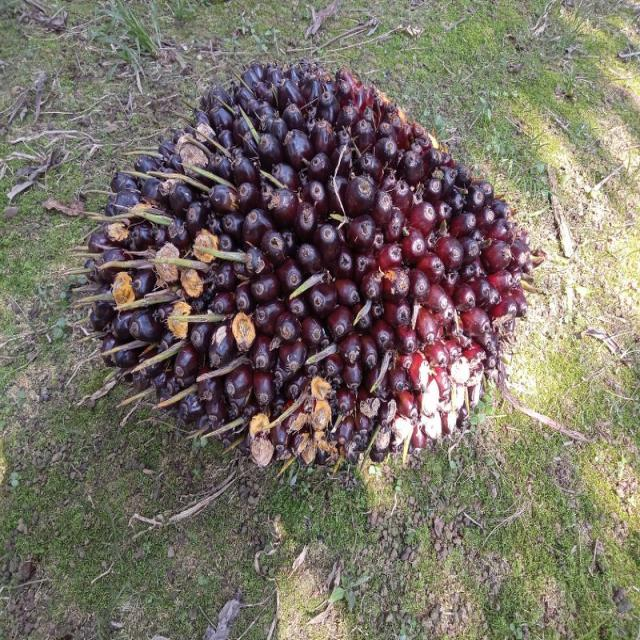fraksi 1: (83, 61, 534, 463)
